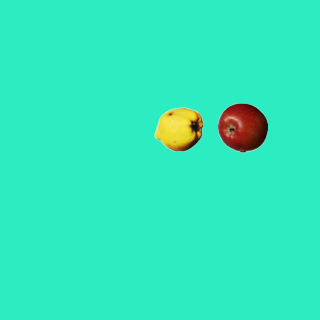Apple Braeburn: (217, 102, 267, 152)
Quince: (153, 104, 203, 154)
